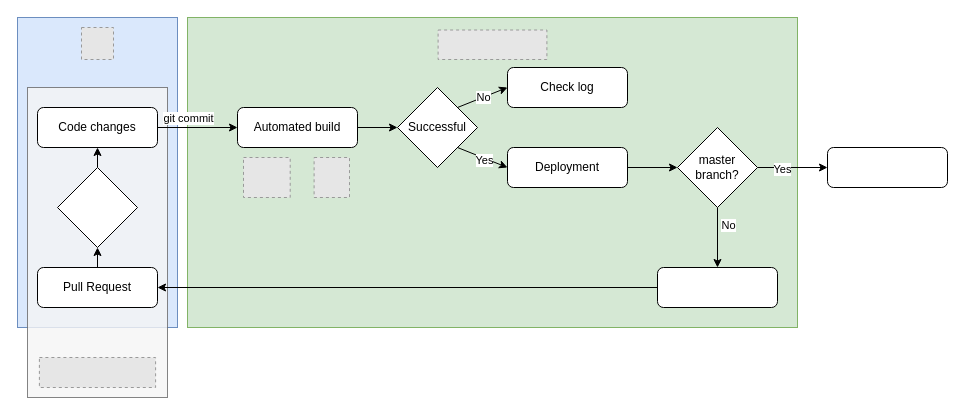
Some shapes in this 965 by 415 pixel diagram are drawn without their labels. Grey dashed boxes stand in for pictures. Here are the shapes that lost their labels. From the top down, the centre of each, then its label:
point (887, 167): Site is live
point (97, 207): Merged
point (717, 287): Preview
